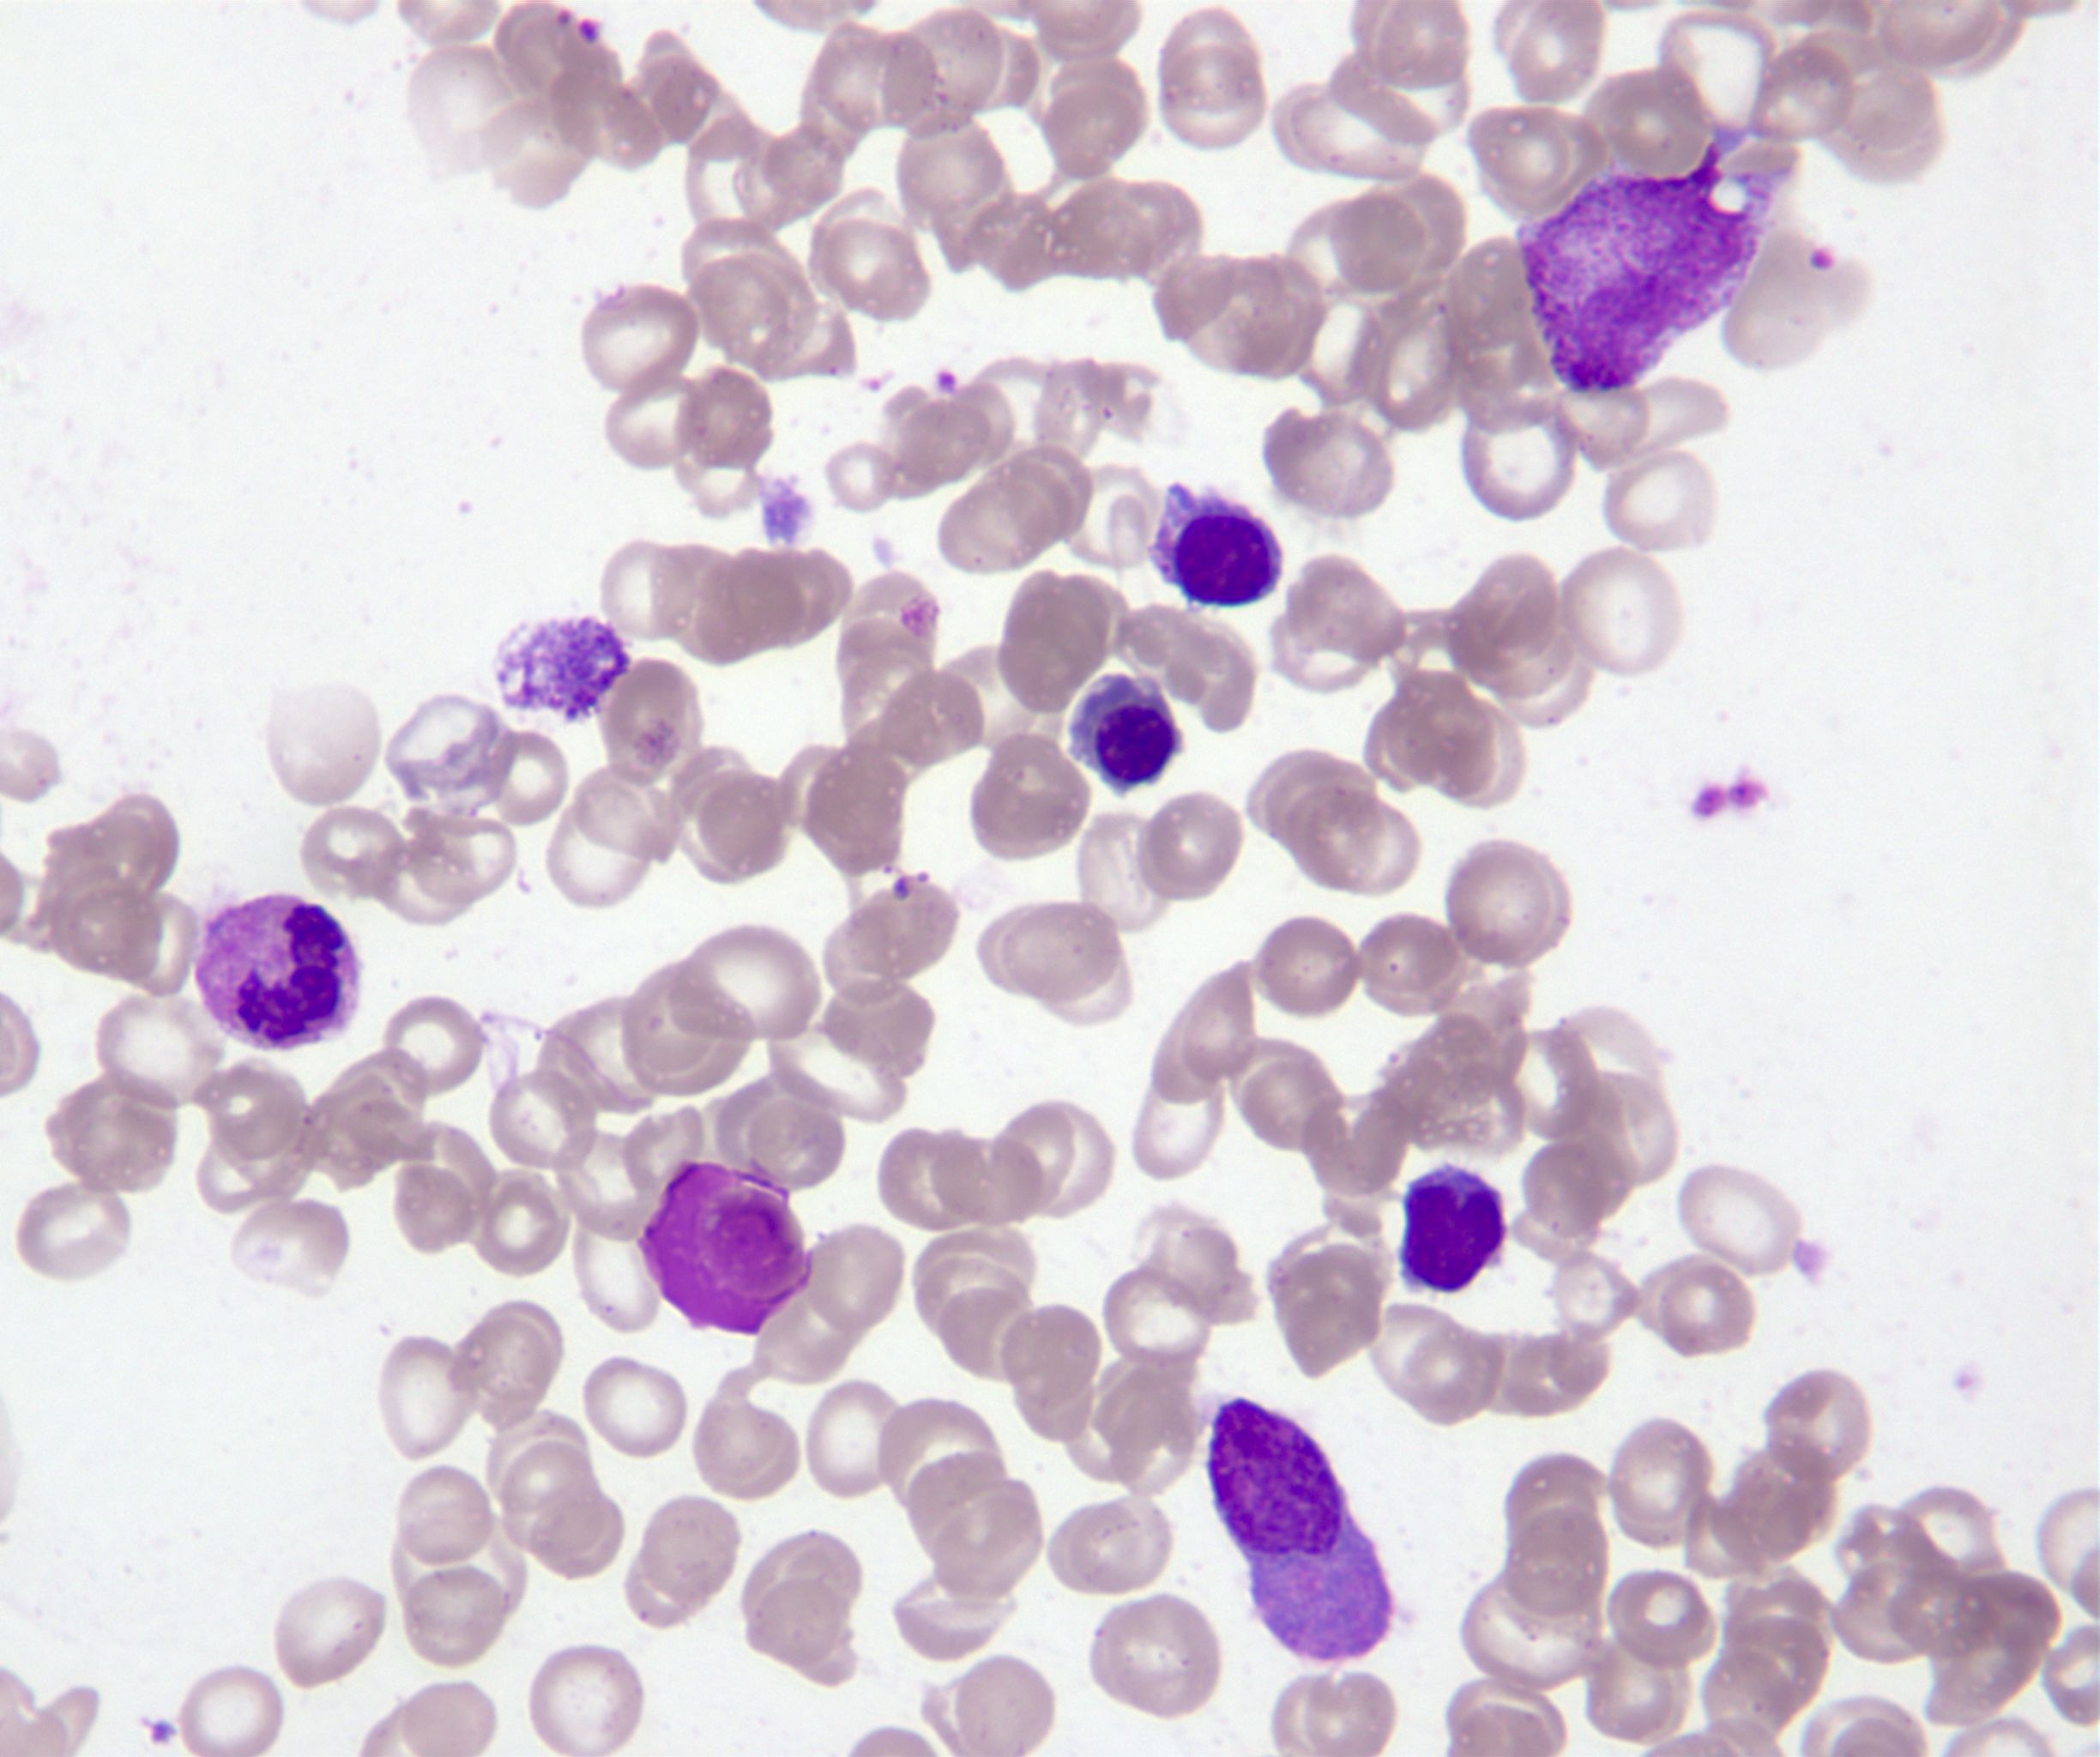24: (1069, 673, 1183, 797)
3: (1517, 129, 1774, 393)
32: (1146, 483, 1284, 605), (1401, 1166, 1505, 1293)
42: (1209, 1399, 1395, 1663)
5: (195, 897, 359, 1054)
x: (637, 1162, 809, 1333), (494, 618, 630, 722)
